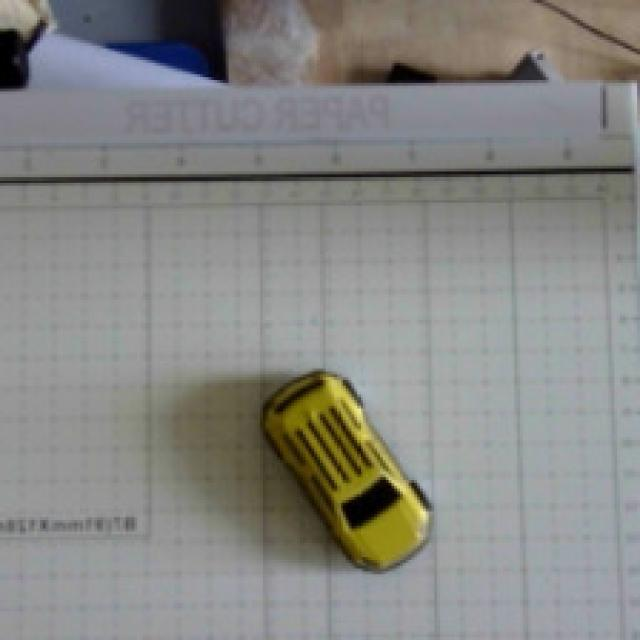Yellow Car: (232, 344, 466, 586)
